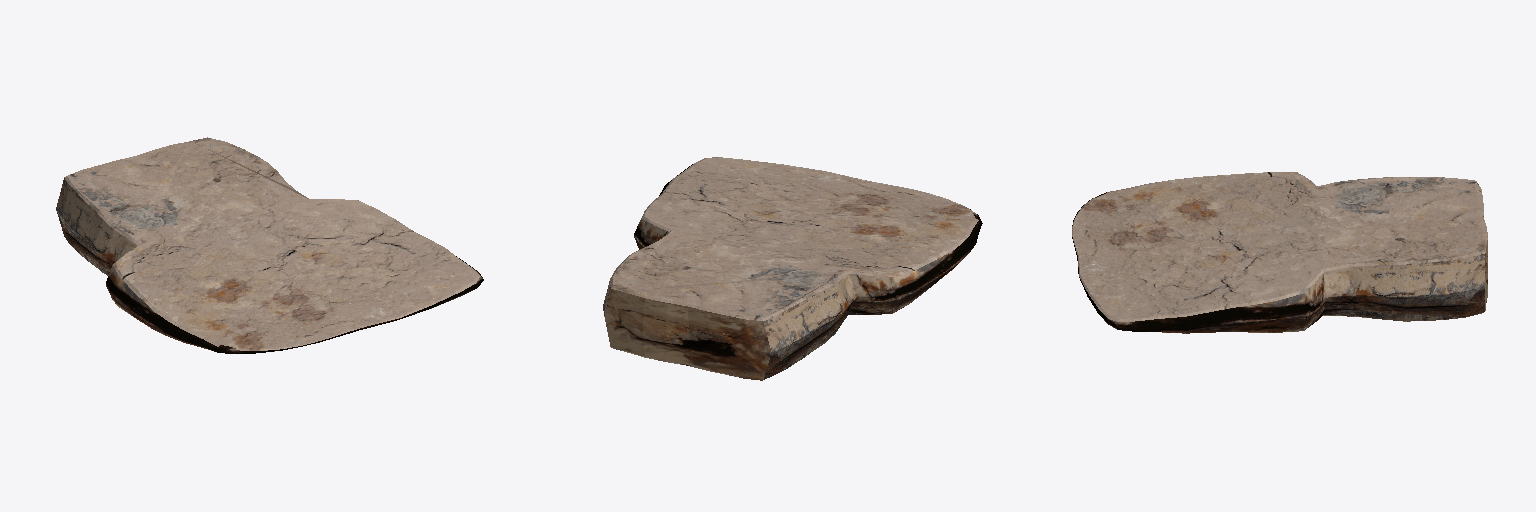
The picture shows the model from 3 angles: view 1: azimuth 30°, elevation 25°; view 2: azimuth 150°, elevation 25°; view 3: azimuth 270°, elevation 25°; orthographic projection.
Visible parts, largest first — view 1: pCube1; view 2: pCube1; view 3: pCube1.
Boxes of the visible parts, x1,y1,x2,y2 form: pCube1: [56, 137, 483, 353]; pCube1: [603, 157, 982, 380]; pCube1: [1072, 172, 1487, 333].
Bounding box in the file's own units: 12.8 × 2.53 × 15.32.
1 materials, 1 textured.